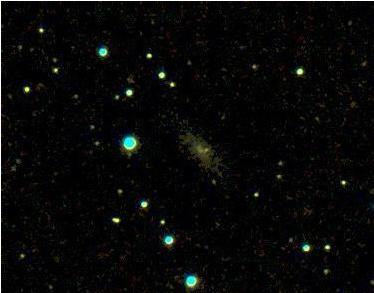star: (34, 275, 64, 293)
